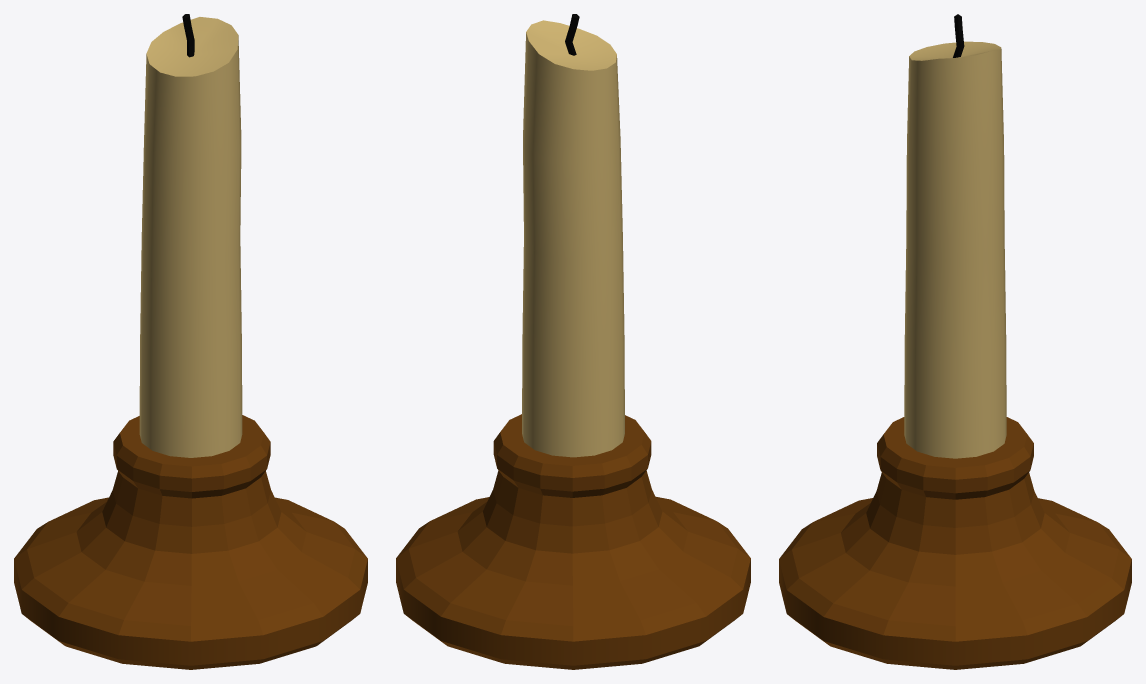
Rendered from candle.obj.
The picture shows the model from 3 angles, left to right: view 1: azimuth 30°, elevation 25°; view 2: azimuth 150°, elevation 25°; view 3: azimuth 270°, elevation 25°; orthographic projection.
Visible parts, largest first — view 1: holder, candle; view 2: holder, candle; view 3: holder, candle.
Boxes of the visible parts, x1=… form: holder: x1=14, y1=415, x2=367, y2=669; candle: x1=139, y1=17, x2=242, y2=457; holder: x1=396, y1=414, x2=750, y2=669; candle: x1=522, y1=20, x2=624, y2=457; holder: x1=779, y1=417, x2=1131, y2=669; candle: x1=904, y1=41, x2=1006, y2=458.
Size of the model in its own units: 0.2401 by 0.4398 by 0.2414.
